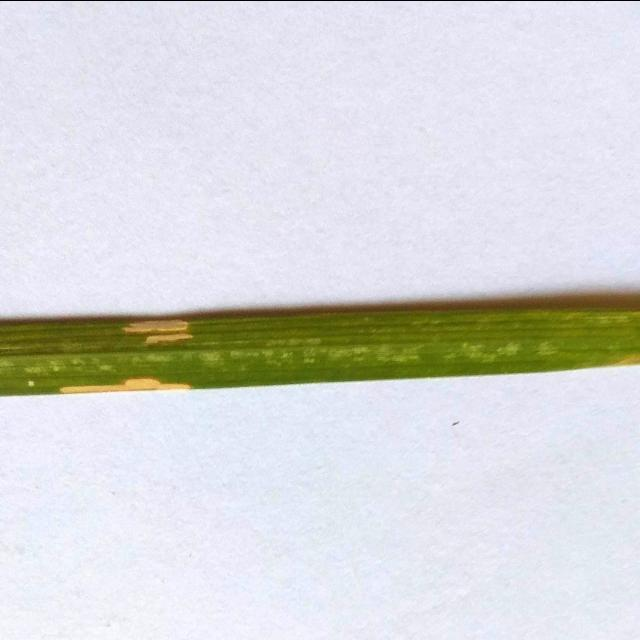Leaf blast: (0, 148, 640, 494)
